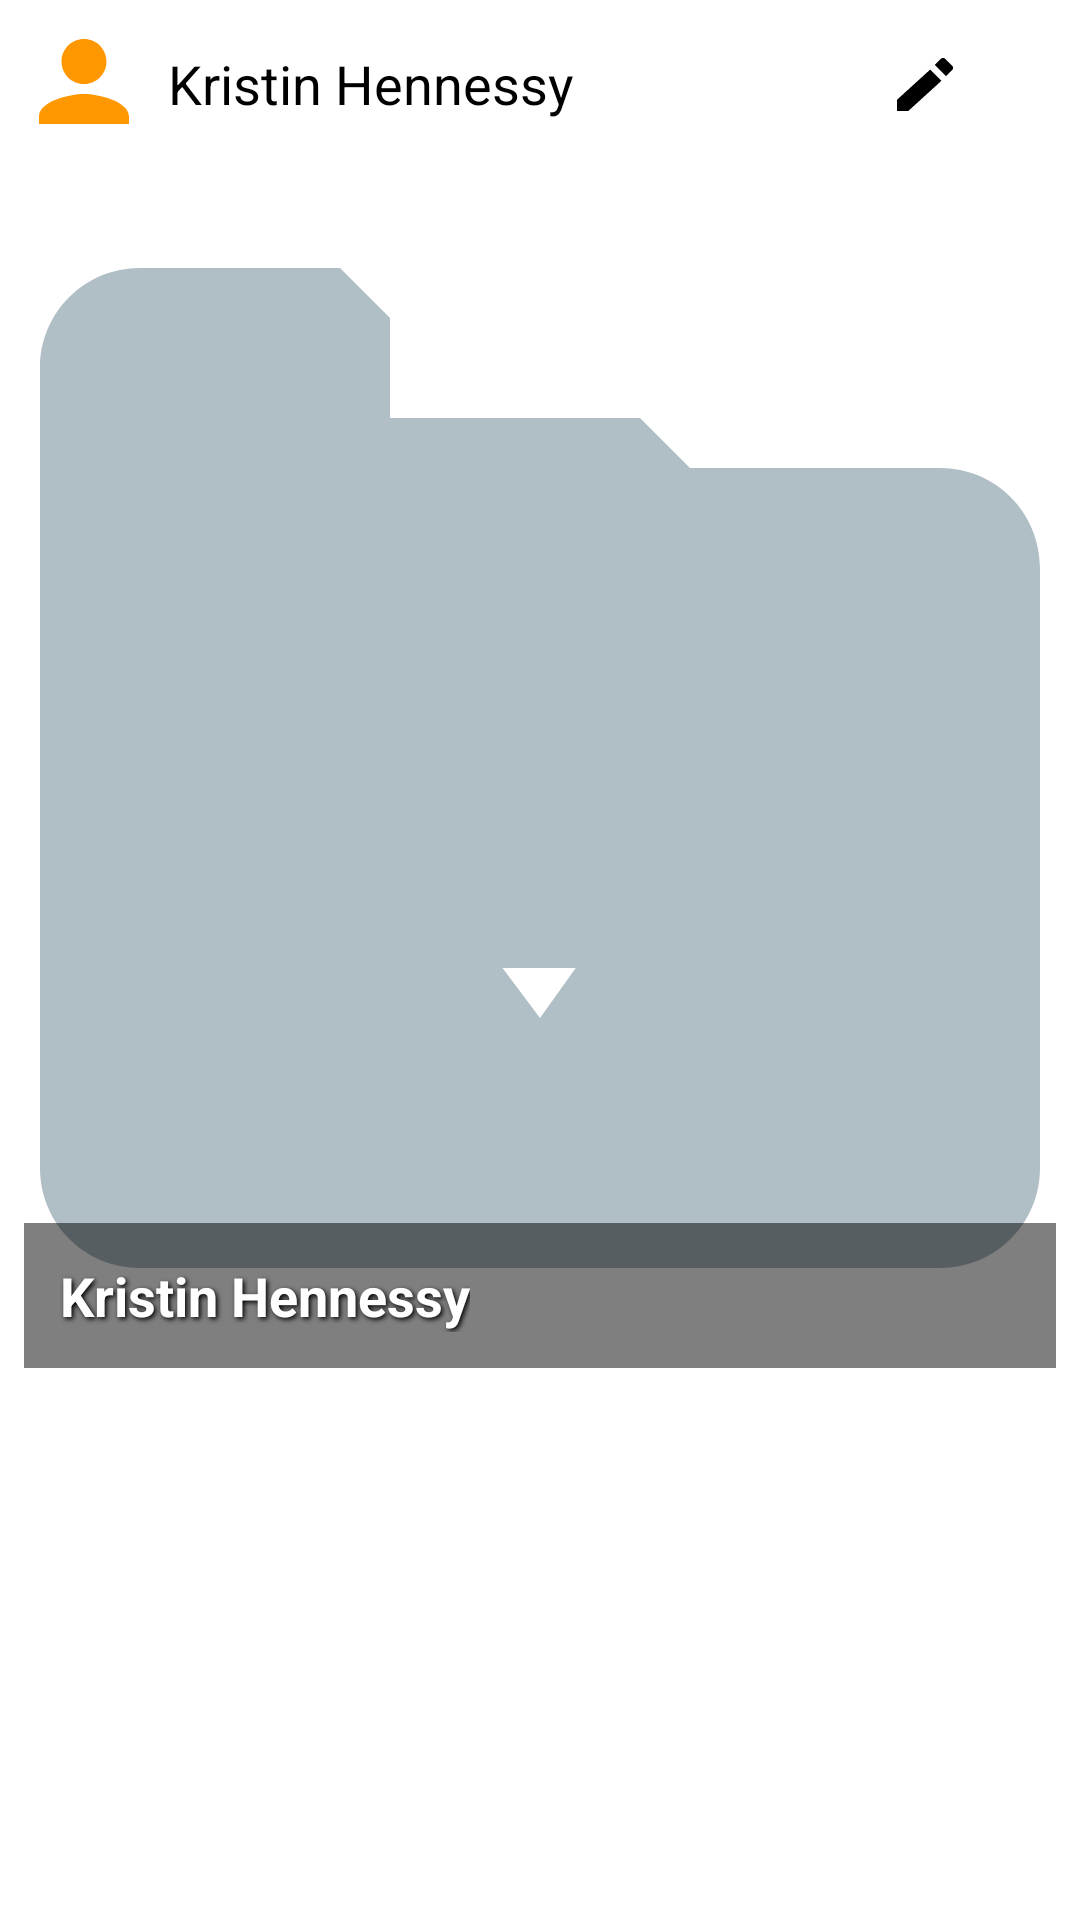

Where to tap for icons on this 1080×1920 app screen, as [x,y]:
Edit Post: [925,84]
